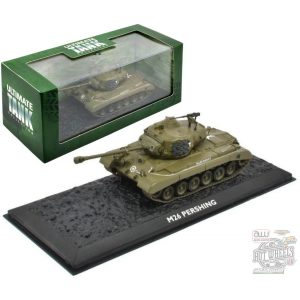Battle Tank: (101, 121, 250, 203)
